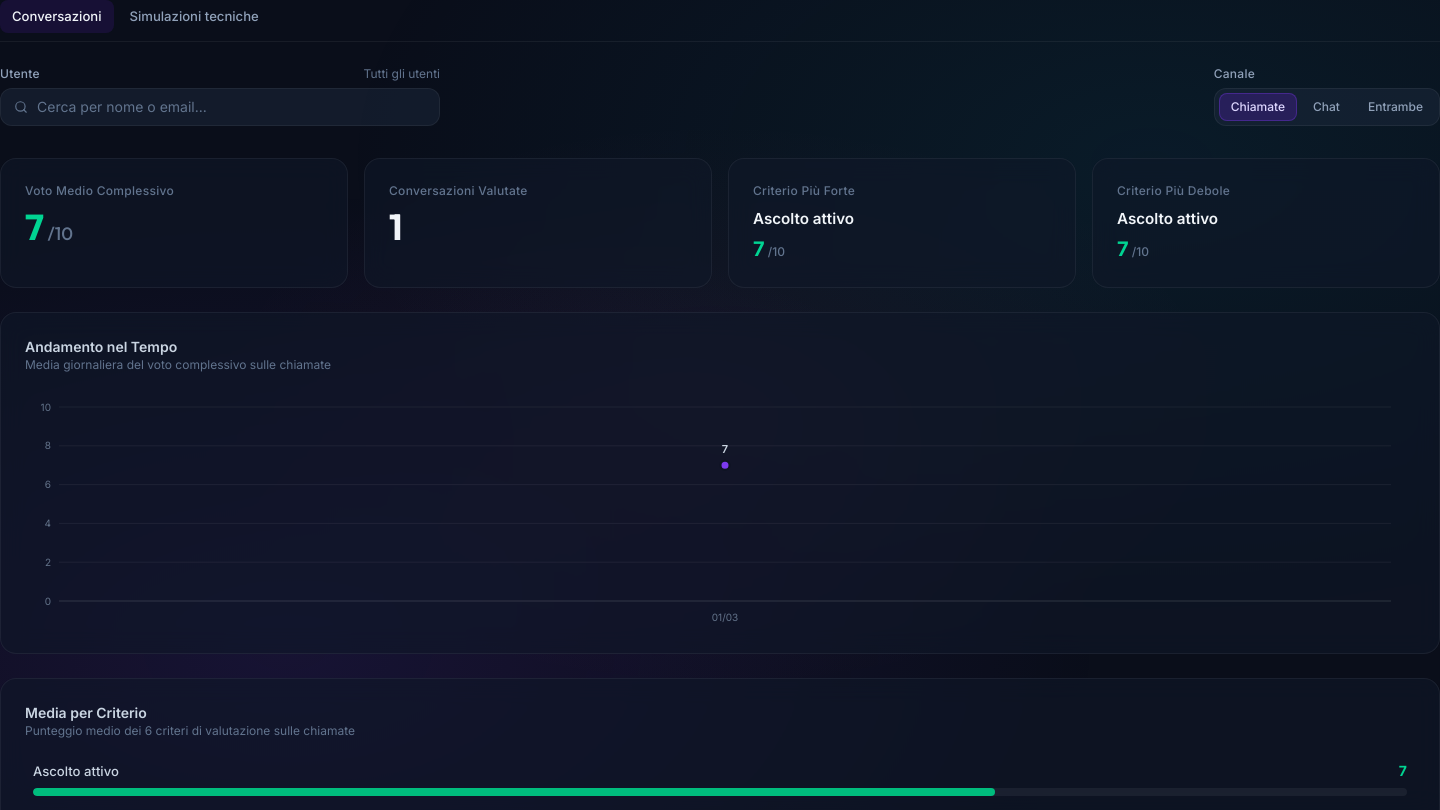
Test: i filtri della vista › scrive nell’indirizzo il canale scelto
Click the radio button labelled "Chat" at (1326, 107), box [1301, 93, 1352, 121]
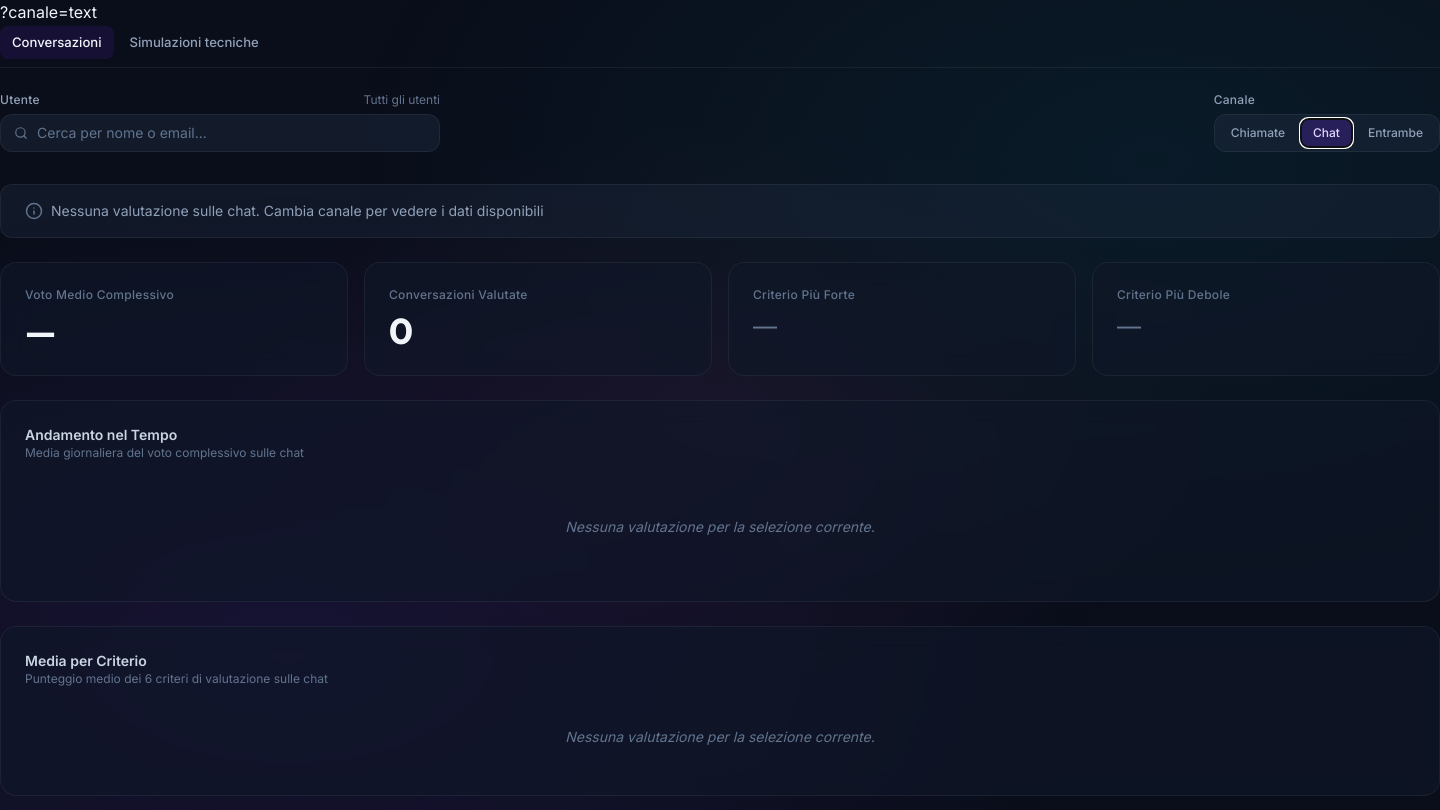
Now the text with test id "indirizzo" shows "canale=text", box [0, 2, 97, 22]
